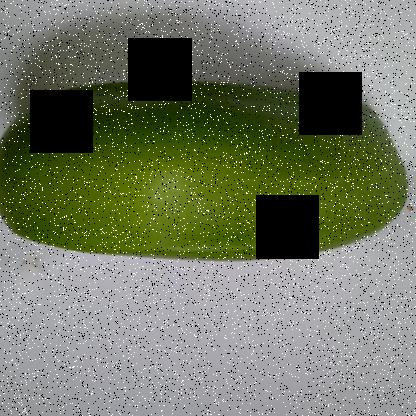freshunripe: (1, 67, 415, 274)
